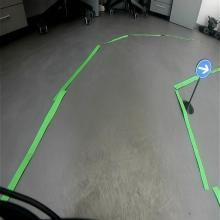right: (195, 58, 212, 79)
